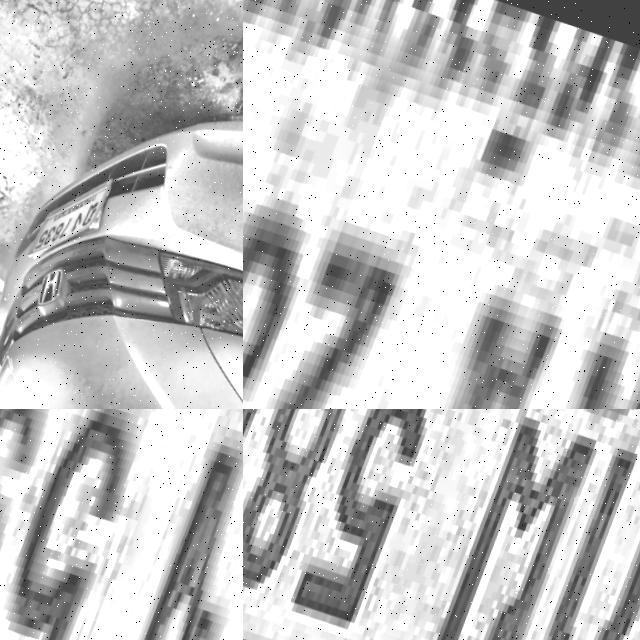license-plate: (243, 0, 640, 409), (243, 409, 640, 640), (0, 409, 243, 640), (28, 152, 125, 276)
